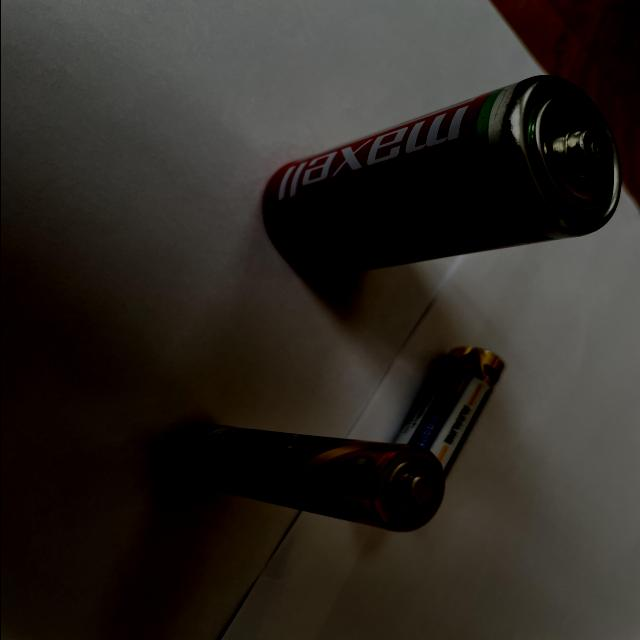AA: (163, 420, 449, 536)
